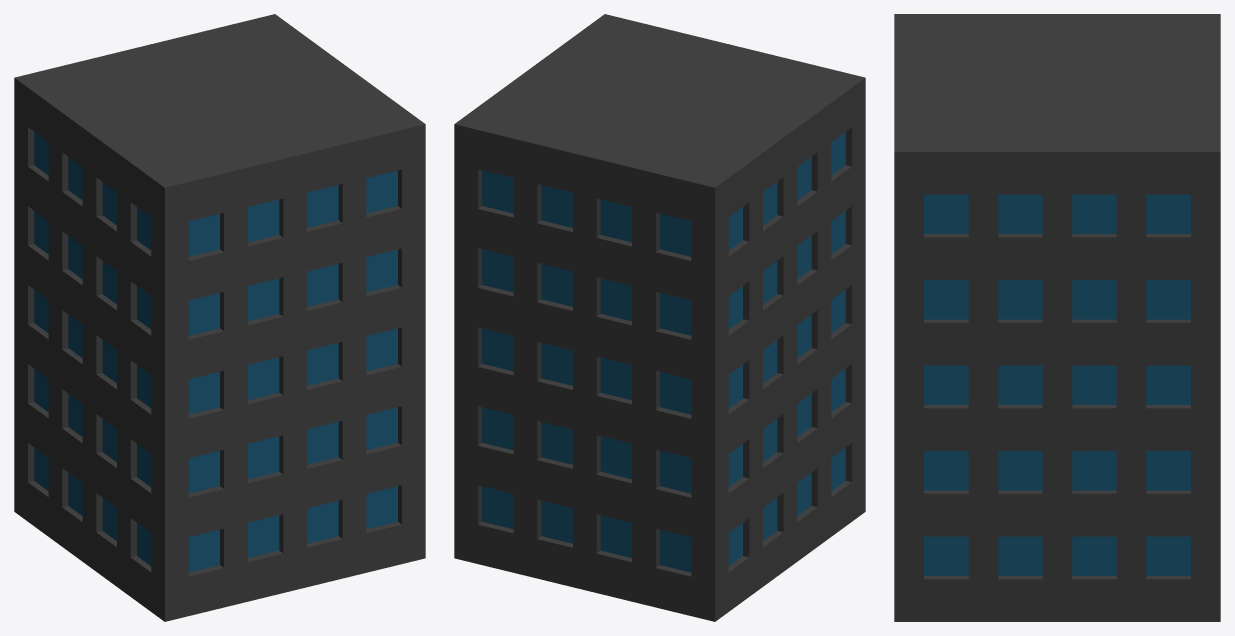
Rendered from filler.glb.
3 renders of one model, left to right at view 1: azimuth 30°, elevation 25°; view 2: azimuth 150°, elevation 25°; view 3: azimuth 270°, elevation 25°, orthographic. The views are drawn at different scales.
Parts seen in each view (by area): view 1: skyskraper 4; view 2: skyskraper 4; view 3: skyskraper 4.
Part boxes in pixels (x1,y1,x2,y2): skyskraper 4: (14, 14, 425, 621); skyskraper 4: (454, 14, 865, 621); skyskraper 4: (894, 14, 1220, 621).
Size of the model in its own units: 29.09 by 46.26 by 29.09.
Materials: 1 (1 with a texture image).
